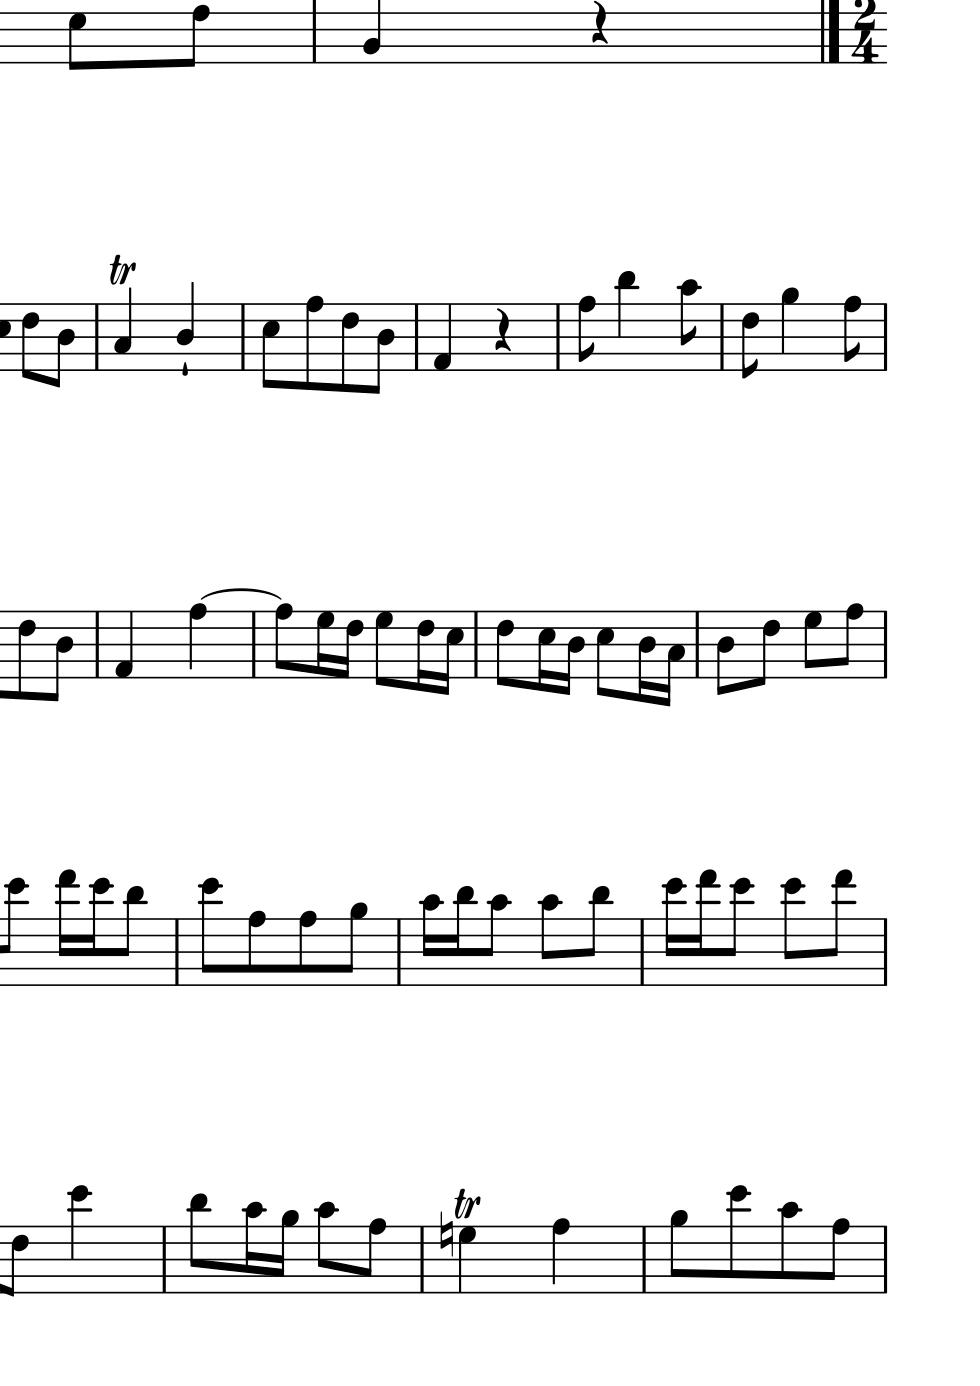16_10: (417, 893, 443, 987), (241, 1200, 266, 1294)
16_11: (448, 884, 476, 989)
16_12: (83, 876, 113, 988), (661, 875, 686, 986)
16_13: (688, 870, 719, 986), (54, 869, 80, 986)
16_3: (659, 609, 686, 708)
16_4: (560, 609, 585, 697), (635, 609, 657, 703)
16_5: (439, 609, 465, 696), (536, 609, 556, 694)
16_6: (415, 609, 435, 692), (339, 610, 363, 680)
16_7: (314, 609, 335, 680)
16_9: (273, 1208, 299, 1296)
2: (852, 1, 880, 29)
4: (848, 30, 881, 64)
4_1: (430, 302, 454, 373), (113, 609, 136, 681)
4_11: (614, 269, 638, 373)
4_12: (65, 1185, 92, 1296)
4_3: (111, 287, 134, 373)
4_4: (175, 281, 195, 376)
4_7: (456, 1224, 478, 1295)
4_8: (185, 602, 208, 680), (549, 1217, 572, 1296)
4_9: (778, 286, 800, 372)
8_10: (482, 893, 511, 987), (537, 893, 563, 988), (676, 278, 701, 373), (776, 1200, 801, 1295), (313, 1201, 337, 1295)
8_11: (113, 885, 145, 988), (581, 884, 612, 988), (187, 1191, 210, 1295)
8_12: (722, 877, 754, 987), (1, 875, 28, 988), (780, 876, 806, 987), (198, 876, 224, 989), (727, 1183, 752, 1297)
8_13: (824, 869, 856, 988)
8_4: (47, 608, 74, 704), (369, 301, 396, 396), (49, 302, 75, 390), (714, 608, 736, 697)
8_5: (594, 608, 616, 699), (259, 302, 280, 390)
8_6: (752, 609, 781, 688), (13, 608, 36, 702), (337, 301, 361, 394), (2, 1225, 29, 1299), (738, 302, 762, 381), (494, 609, 517, 689), (19, 302, 40, 382)
8_7: (373, 609, 393, 688), (801, 609, 822, 680)
8_8: (821, 1216, 851, 1296), (836, 601, 865, 680), (358, 1217, 387, 1296), (302, 293, 325, 392), (295, 909, 318, 989), (574, 295, 597, 373), (840, 294, 863, 372), (272, 602, 294, 680), (245, 909, 266, 989)
8_9: (339, 901, 368, 988), (667, 1209, 692, 1295)
Final_barline: (816, 1, 843, 63)
Natural: (436, 1209, 453, 1260)
Rests4: (588, 1, 610, 46), (491, 306, 512, 353)
Single_barline: (634, 1226, 655, 1292), (687, 611, 706, 679), (875, 1226, 894, 1293), (88, 610, 106, 679), (155, 1226, 173, 1293), (413, 1227, 431, 1293), (467, 610, 484, 679), (876, 610, 893, 679), (234, 304, 251, 371), (168, 919, 185, 985), (390, 919, 407, 985), (305, 1, 323, 63), (408, 303, 424, 371), (876, 303, 892, 370), (550, 304, 566, 370), (714, 304, 730, 370), (246, 612, 262, 678), (634, 919, 650, 985), (876, 919, 892, 985), (89, 304, 104, 370)
Slur: (202, 586, 285, 602)
Staccatissimo: (178, 359, 191, 378)
TimeSig: (848, 1, 880, 63)
Trill: (447, 1188, 483, 1220), (107, 252, 136, 287)
